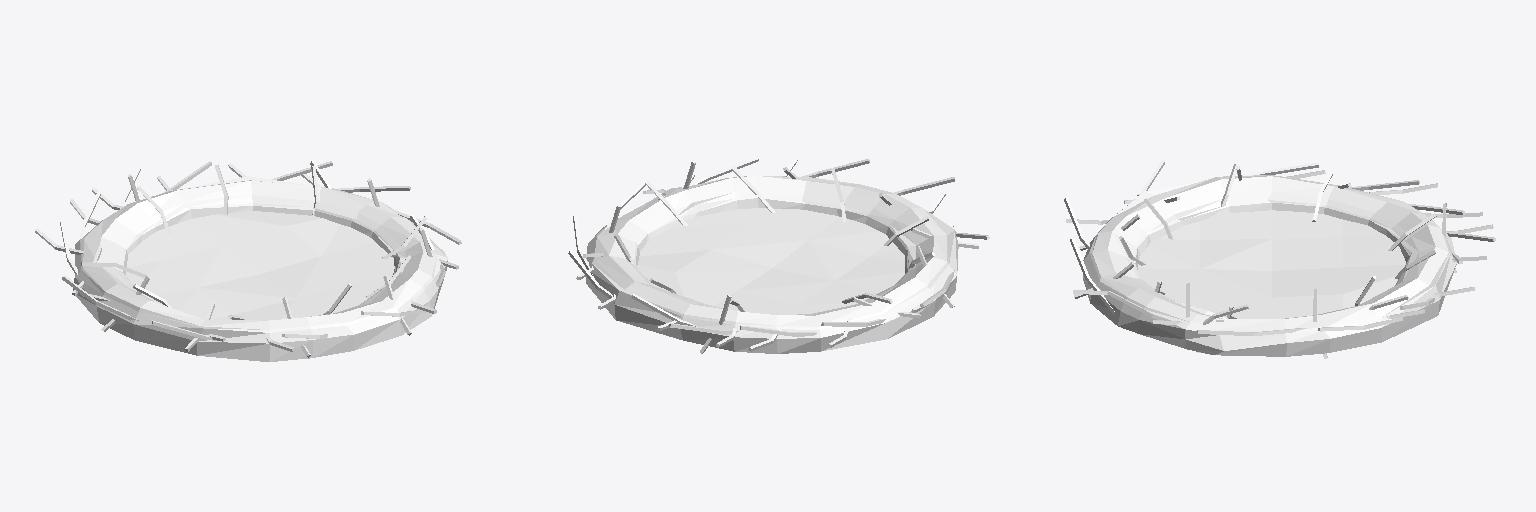
File: nest.obj
The picture shows the model from 3 angles: view 1: azimuth 30°, elevation 25°; view 2: azimuth 150°, elevation 25°; view 3: azimuth 270°, elevation 25°; orthographic projection.
Parts seen in each view (by area): view 1: pCube44; view 2: pCube44; view 3: pCube44.
Part boxes in pixels (x1,y1,x2,y2): pCube44: (35, 161, 461, 361); pCube44: (568, 157, 989, 353); pCube44: (1064, 160, 1495, 358).
Bounding box in the file's own units: 18.91 × 3.29 × 20.21.